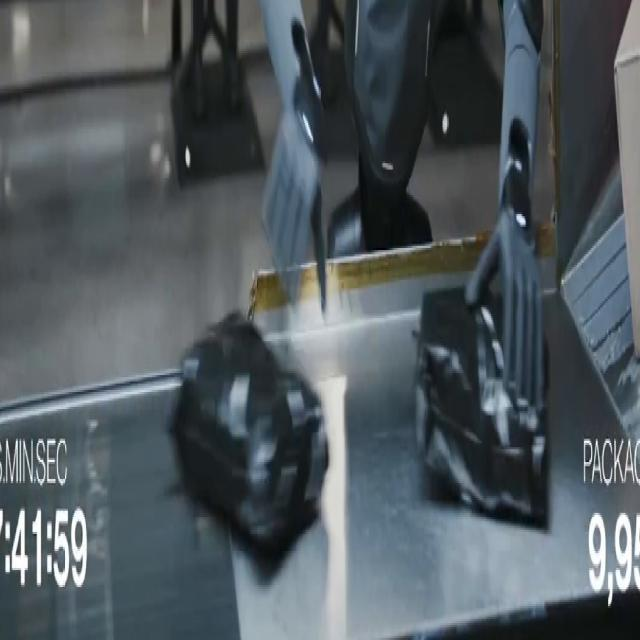package: (170, 314, 328, 550), (416, 289, 549, 525), (615, 0, 639, 353)
